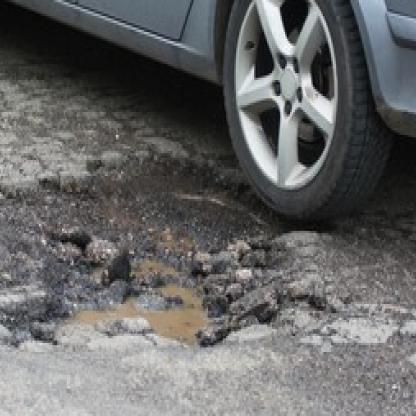pothole: (36, 236, 246, 355), (37, 155, 285, 238)
